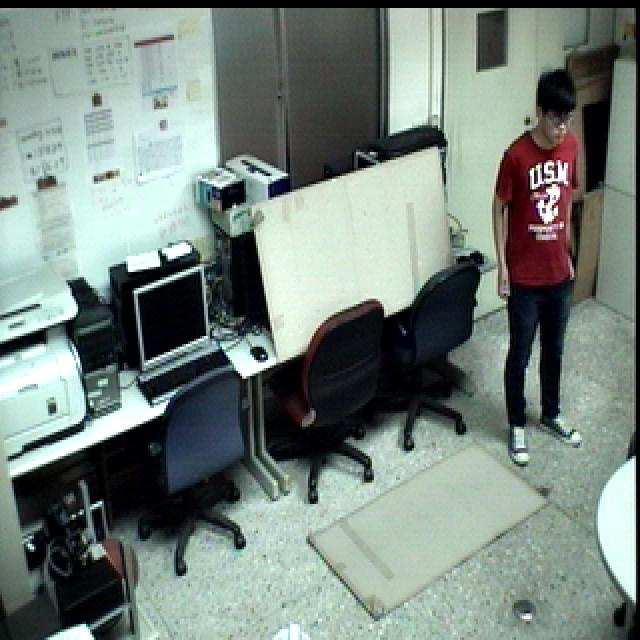stand: (484, 63, 594, 473)
